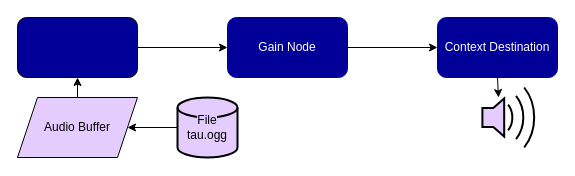
The diagram is 575 pixels wide and 176 high, and some of its shapes have lost their labels. The shapes that lost their labels are listed below. From the top down, each one's centre as x and y in pixels, then its label:
At point 77,47: "Audio Buffer Input node".
At point 509,117: "Speaker".
